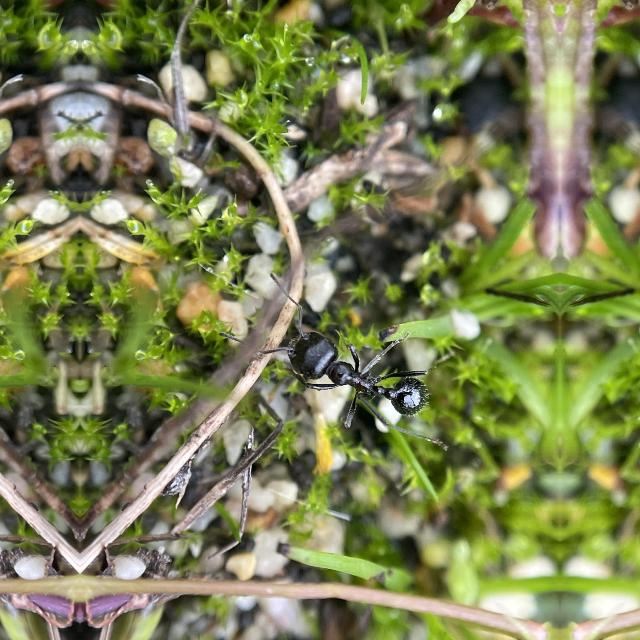Messor: (278, 316, 438, 428)
